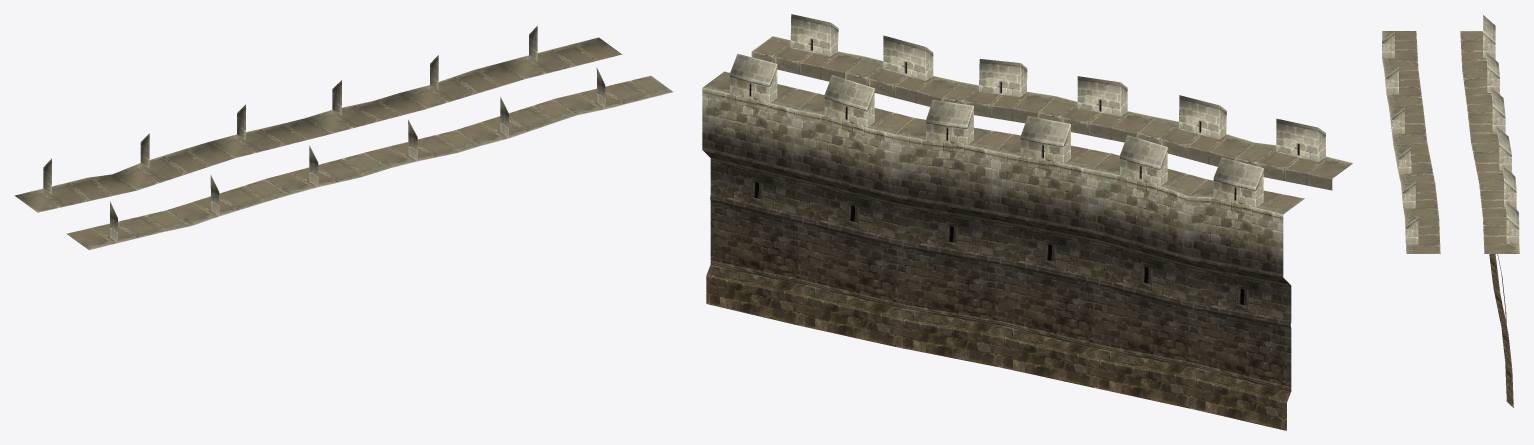
The model's file is OZ_09_sn_T03Wal03G.glb.
3 views of the same model, side by side, from view 1: azimuth 30°, elevation 25°; view 2: azimuth 150°, elevation 25°; view 3: azimuth 270°, elevation 25° (orthographic). The views are drawn at different scales.
Parts seen in each view (by area): view 1: OM_09_sn_T03Wal03G; view 2: OM_09_sn_T03Wal03G; view 3: OM_09_sn_T03Wal03G.
Boxes of the visible parts, x1,y1,x2,y2 form: OM_09_sn_T03Wal03G: (14,26,672,249); OM_09_sn_T03Wal03G: (702,14,1352,430); OM_09_sn_T03Wal03G: (1382,15,1519,407).
Bounding box in the file's own units: 35.06 × 15.13 × 9.16.
2 materials, 2 textured.
